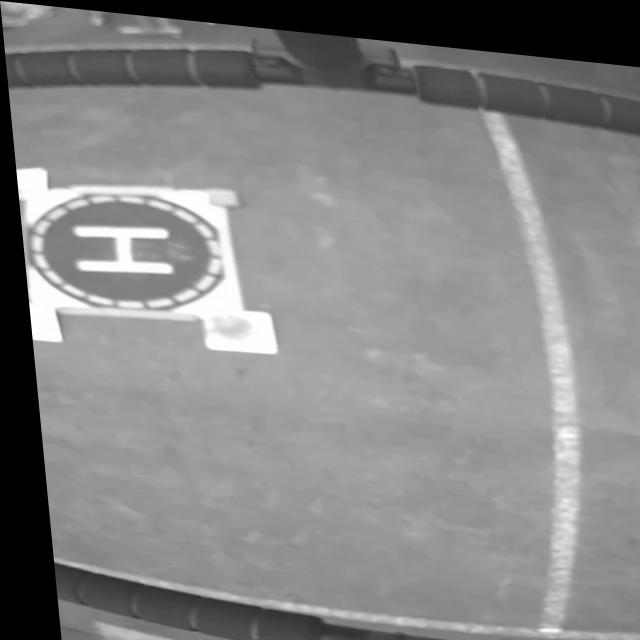Helipad: (69, 222, 172, 270)
